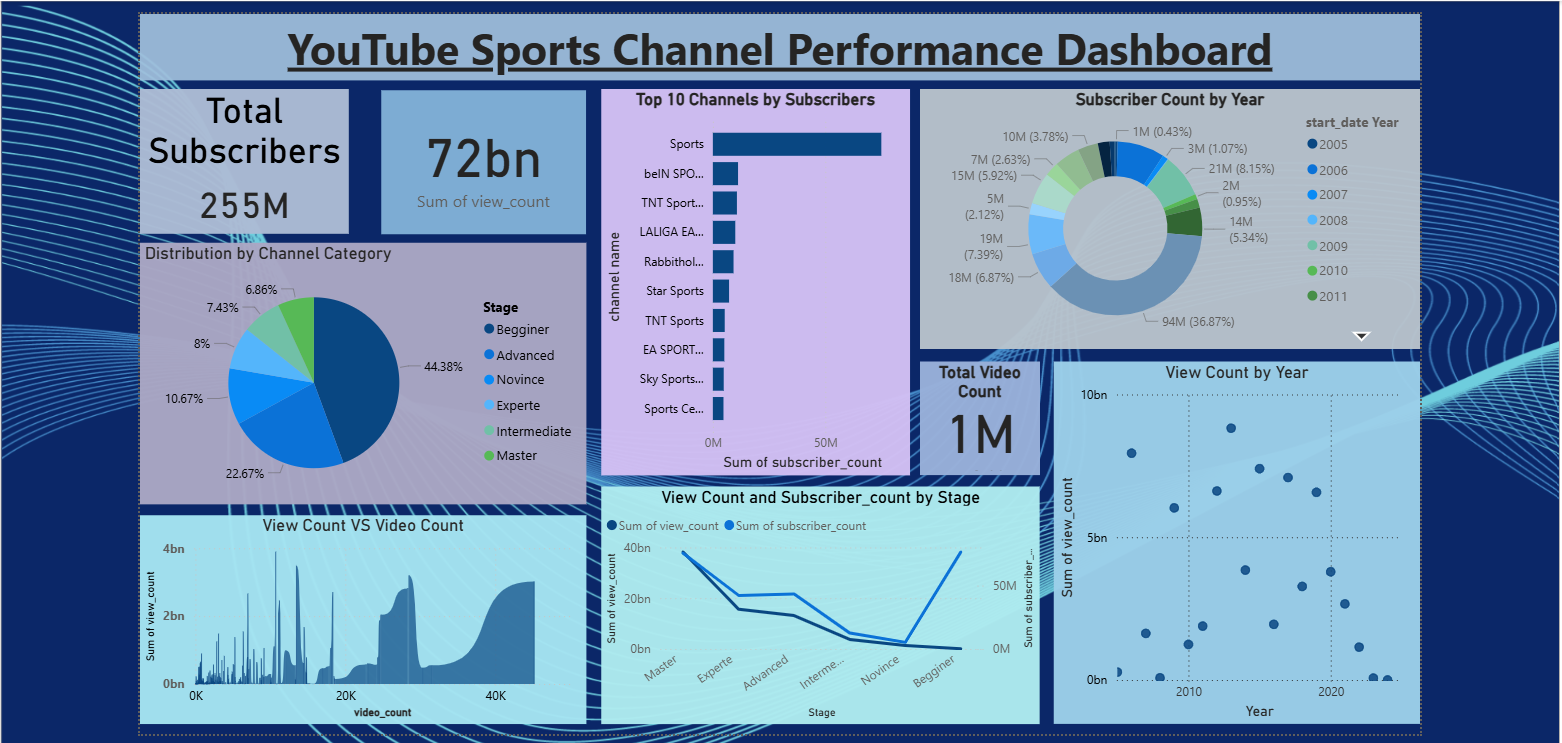

The dashboard page shown, as its layout file describes it:
{"tool":"powerbi","page":{"name":"Page 2","canvas":[1280,720],"ordinal":0},"visuals":[{"type":"card","title":"Total Subscribers","fields":{"Values":["Sum(yt_sports_channels_stats.subscriber_count)"]},"box":[0,75,208.8,145],"z":0},{"type":"card","title":"Total Video Count","fields":{"Values":["Sum(yt_sports_channels_stats.video_count)"]},"box":[780,347.5,120,113.8],"z":1000},{"type":"card","fields":{"Values":["Sum(yt_sports_channels_stats.view_count)"]},"box":[241.2,76.2,205,143.8],"z":2000},{"type":"clusteredBarChart","title":"Top 10 Channels by Subscribers","fields":{"Category":["yt_sports_channels_stats.channel name"],"Y":["Sum(yt_sports_channels_stats.subscriber_count)"]},"box":[461.2,75,308.8,386.2],"z":3000},{"type":"pieChart","title":"Distribution by Channel Category","fields":{"Category":["yt_sports_channels_stats.Stage"],"Y":["CountNonNull(yt_sports_channels_stats.channel name)"]},"box":[0,228.8,446.2,261.2],"z":4000},{"type":"textbox","box":[0,0,1280,66.7],"z":5000},{"type":"donutChart","title":"Subscriber Count by Year","fields":{"Category":["yt_sports_channels_stats.start_date.Variation.Date Hierarchy.Year","yt_sports_channels_stats.start_date.Variation.Date Hierarchy.Quarter","yt_sports_channels_stats.start_date.Variation.Date Hierarchy.Month","yt_sports_channels_stats.start_date.Variation.Date Hierarchy.Day"],"Y":["Sum(yt_sports_channels_stats.subscriber_count)"]},"box":[780,75,500,260],"z":6000},{"type":"lineChart","title":"View Count and Subscriber_count by Stage","fields":{"Y":["Sum(yt_sports_channels_stats.view_count)"],"Category":["yt_sports_channels_stats.Stage"],"Y2":["Sum(yt_sports_channels_stats.subscriber_count)"]},"box":[461.2,472.5,438.8,237.5],"z":7000},{"type":"scatterChart","title":"View Count by Year","fields":{"X":["yt_sports_channels_stats.start_date.Variation.Date Hierarchy.Year","yt_sports_channels_stats.start_date.Variation.Date Hierarchy.Quarter","yt_sports_channels_stats.start_date.Variation.Date Hierarchy.Month","yt_sports_channels_stats.start_date.Variation.Date Hierarchy.Day"],"Y":["Sum(yt_sports_channels_stats.view_count)"]},"box":[913.8,347.5,366.2,362.5],"z":8000},{"type":"ribbonChart","title":"View Count VS Video Count","fields":{"Category":["yt_sports_channels_stats.video_count"],"Y":["Sum(yt_sports_channels_stats.view_count)"]},"box":[0,501.2,446.2,208.8],"z":8001}]}

Visuals, with their boxes in screenshot pixels (x1, y1, x2, y2):
"Total Subscribers" card: [x1=126, y1=76, x2=339, y2=224]
"Total Video Count" card: [x1=921, y1=354, x2=1044, y2=470]
card - Sum(yt_sports_channels_stats.view_count): [x1=372, y1=78, x2=581, y2=224]
"Top 10 Channels by Subscribers" clusteredBarChart: [x1=596, y1=76, x2=911, y2=470]
"Distribution by Channel Category" pieChart: [x1=126, y1=233, x2=581, y2=500]
textbox: [x1=126, y1=0, x2=1431, y2=68]
"Subscriber Count by Year" donutChart: [x1=921, y1=76, x2=1431, y2=342]
"View Count and Subscriber_count by Stage" lineChart: [x1=596, y1=482, x2=1044, y2=724]
"View Count by Year" scatterChart: [x1=1058, y1=354, x2=1431, y2=724]
"View Count VS Video Count" ribbonChart: [x1=126, y1=511, x2=581, y2=724]
